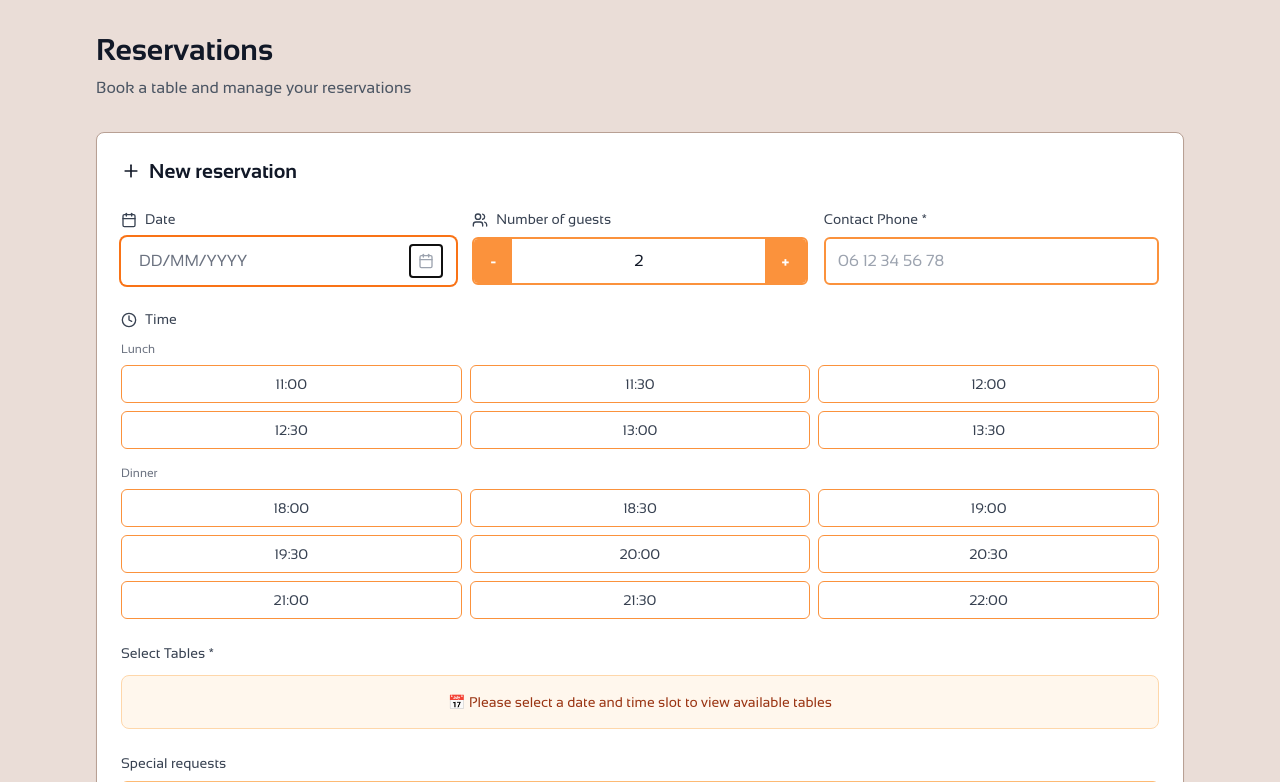
Test: Reservations Component › should increment/decrement party size with buttons
Expected: the text "2" is shown, [634,252,643,269]
Note: Increment party size
Click the button "+" at x=786, y=261, box [765,239,806,283]
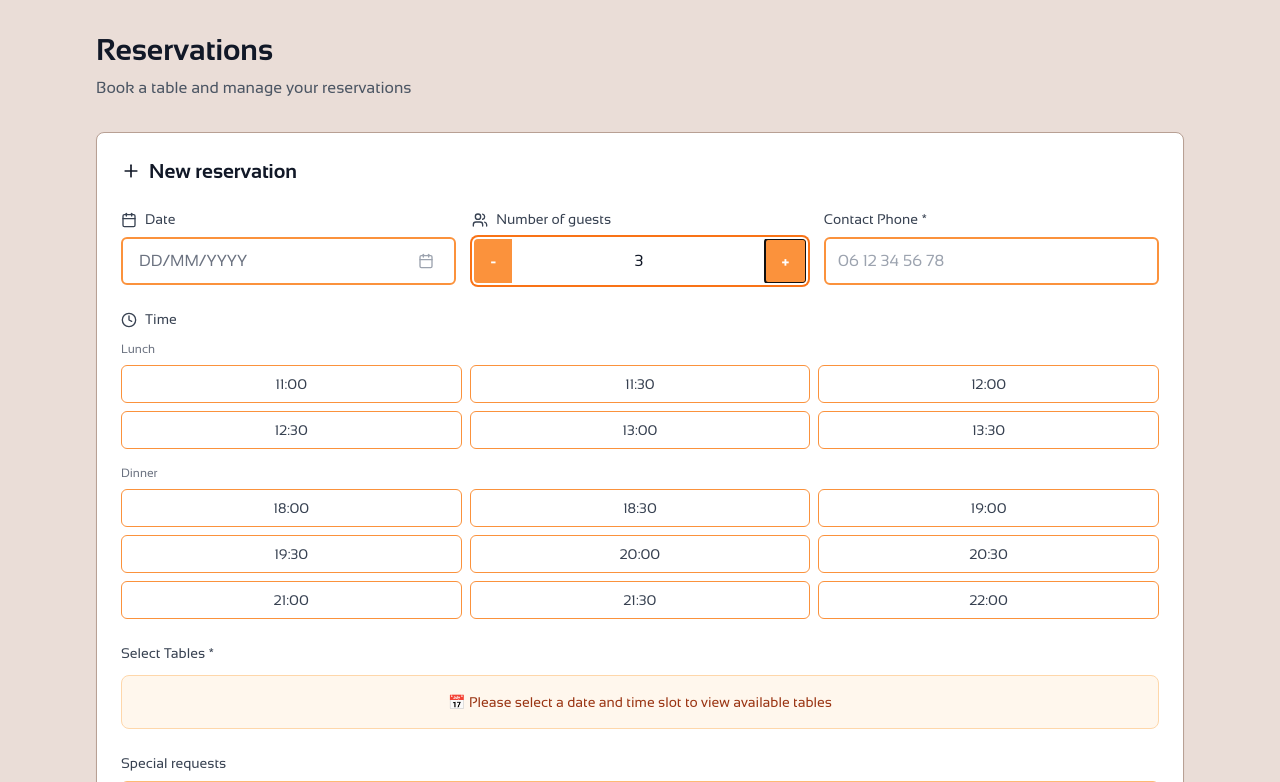
Expected: the text "3" is shown, [634,252,643,269]
Note: Decrement party size back to 2
Click the button "-" at x=493, y=261, box [474,239,512,283]
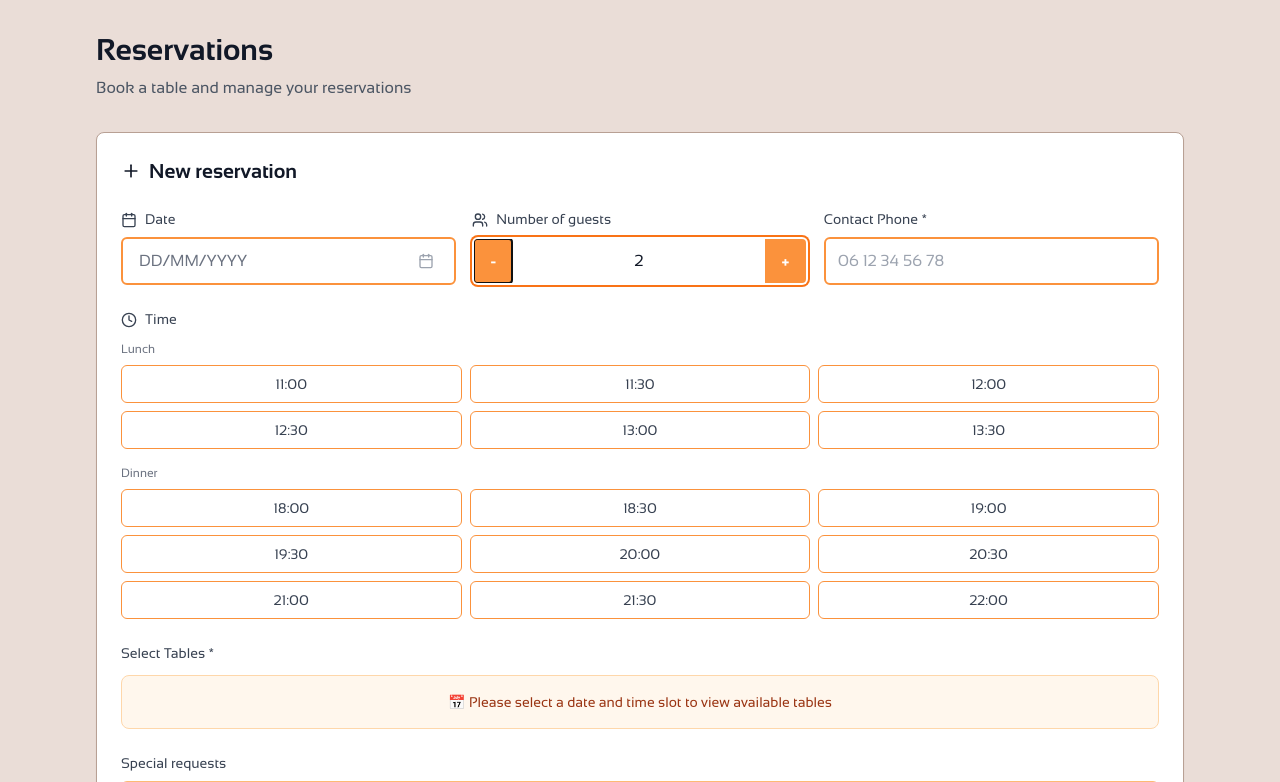
Expected: the text "2" is shown, [634,252,643,269]
Note: Decrement one more time to 1
Click the button "-" at x=493, y=261, box [474,239,512,283]
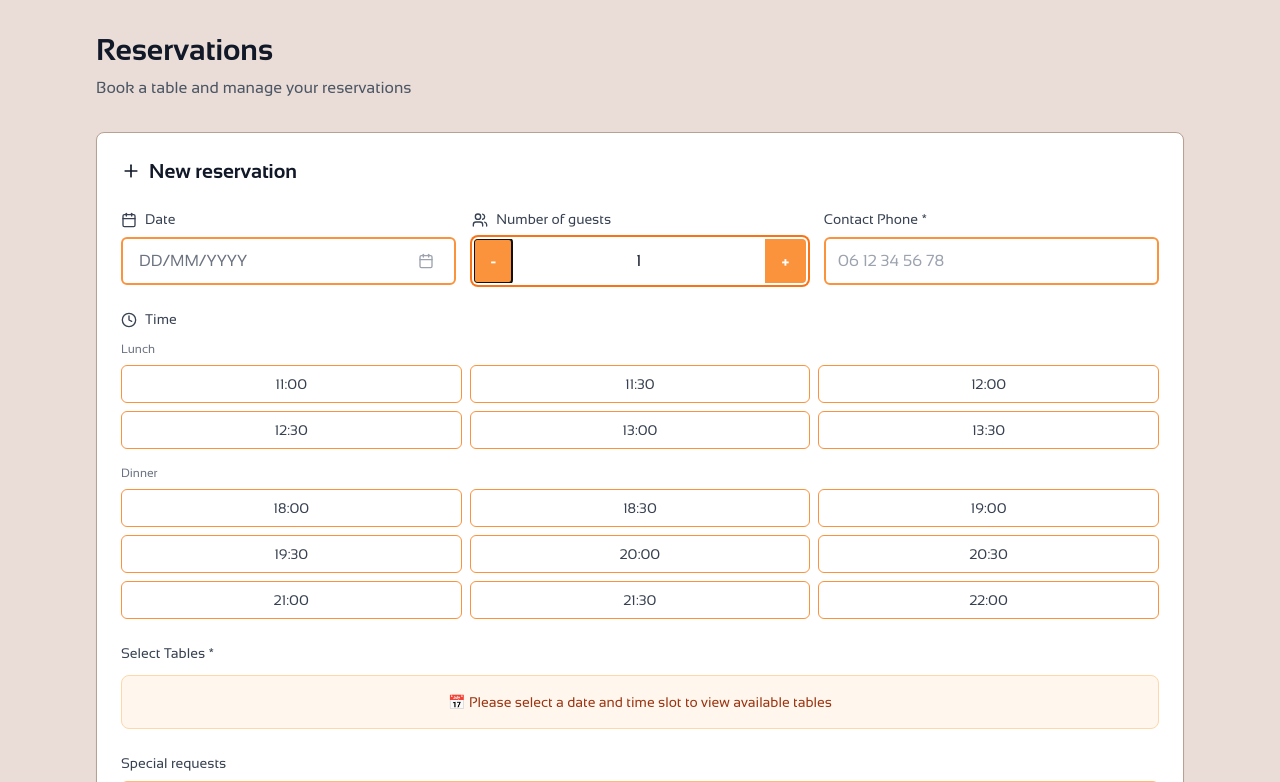
Expected: the text "1" is shown, [636,252,641,269]
